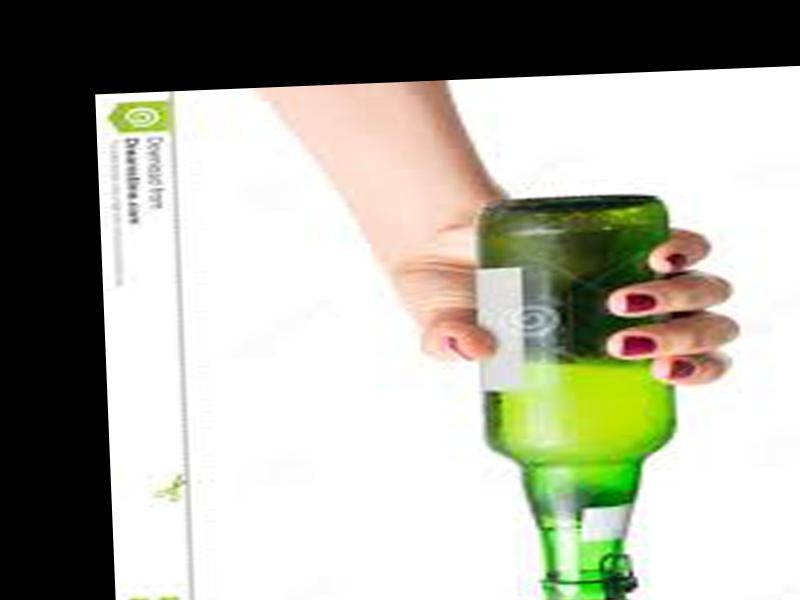Beer: (468, 194, 696, 600)
